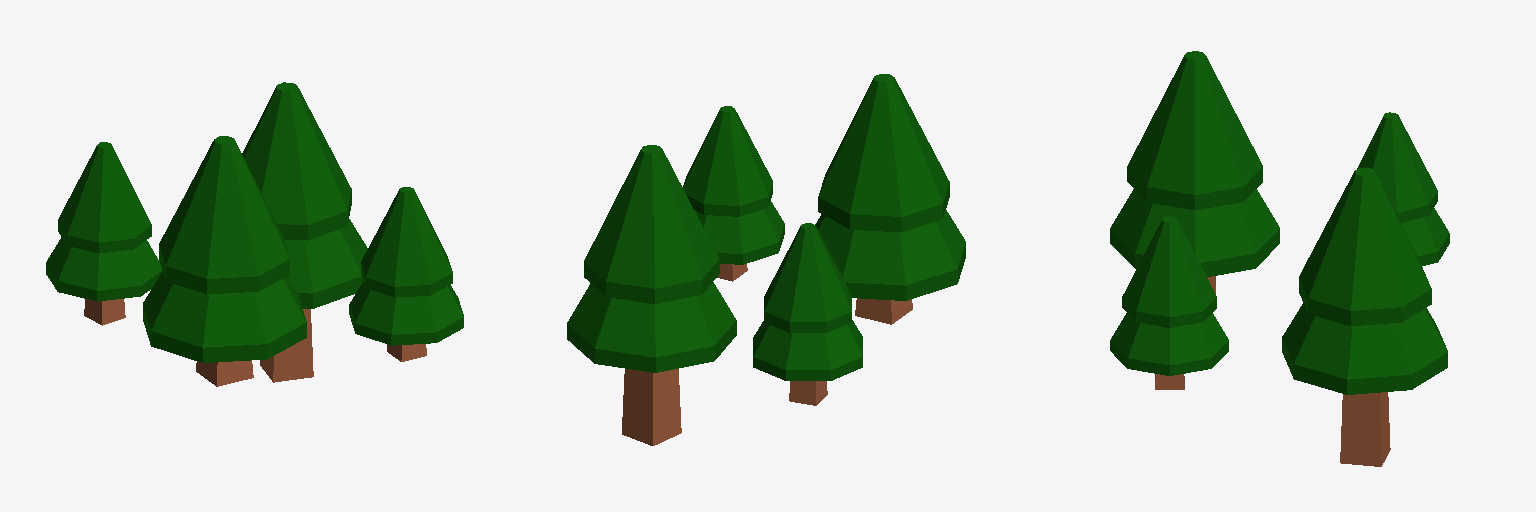
The model's file is TreeQuadCornerDownWards.obj.
3 views of the same model, side by side, from view 1: azimuth 30°, elevation 25°; view 2: azimuth 150°, elevation 25°; view 3: azimuth 270°, elevation 25° (orthographic).
Parts seen in each view (by area): view 1: tree.006_tree.003; view 2: tree.006_tree.003; view 3: tree.006_tree.003.
Boxes of the visible parts, x1,y1,x2,y2 form: tree.006_tree.003: [46, 82, 463, 386]; tree.006_tree.003: [567, 74, 965, 445]; tree.006_tree.003: [1110, 51, 1449, 466].
Size of the model in its own units: 1 by 1.07 by 0.9984.